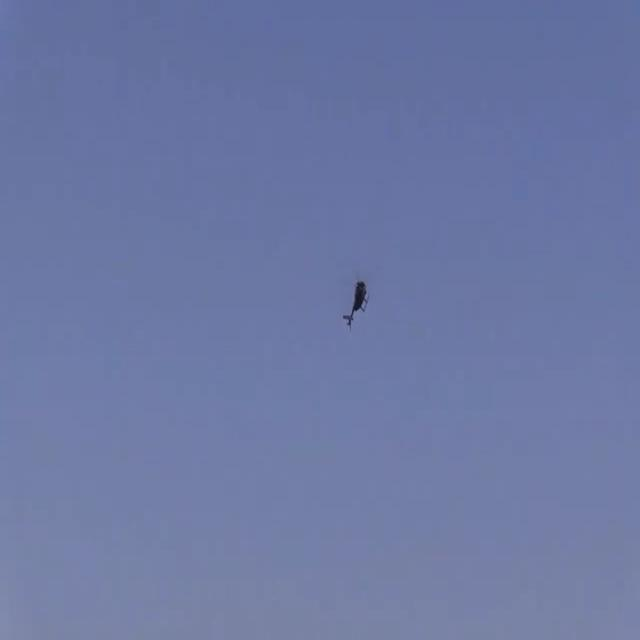Helicopter: (325, 249, 388, 350)
